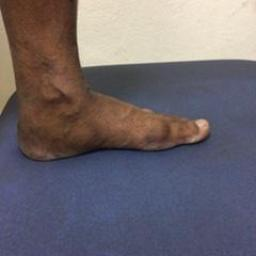Medial View -Left Foot-: (7, 65, 221, 185)
